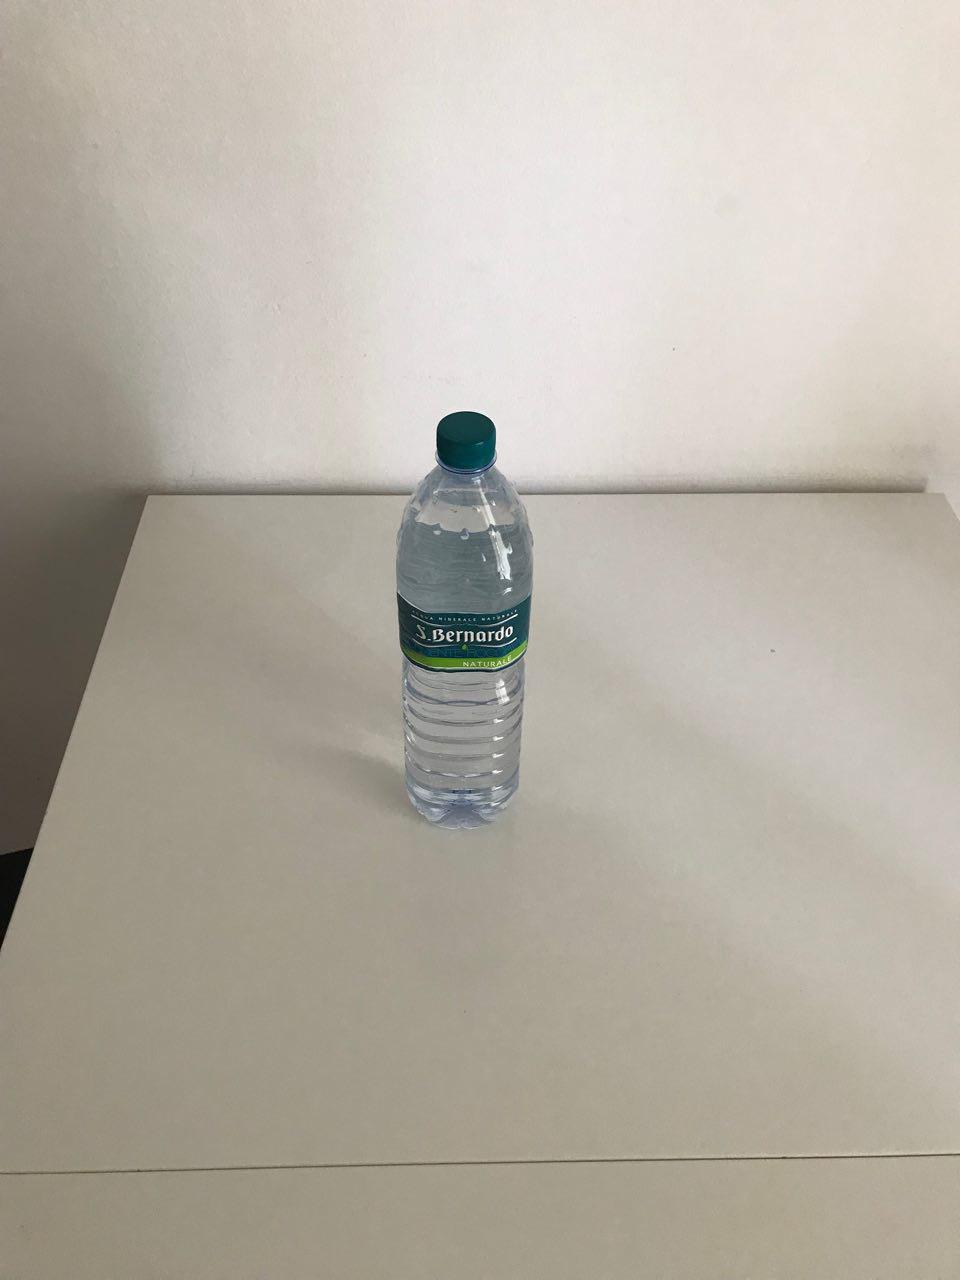san_bernardo: (394, 408, 537, 833)
